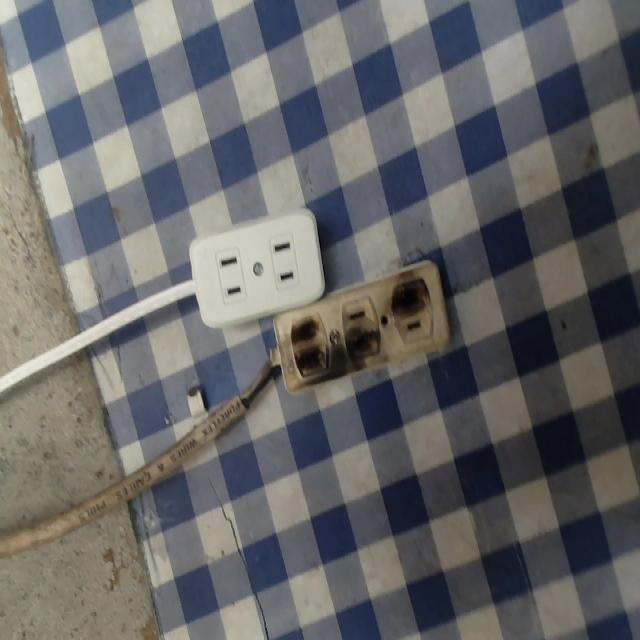-: (287, 312, 332, 387), (382, 270, 438, 318), (343, 326, 385, 374)
